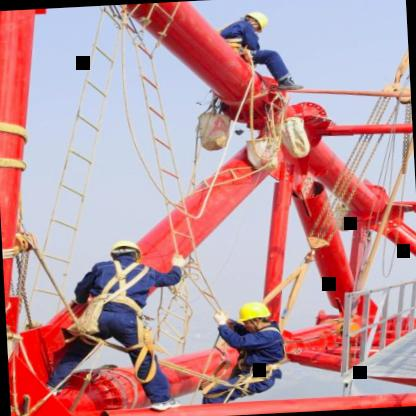helmet: (102, 235, 148, 268), (234, 300, 270, 334), (236, 6, 272, 38)
